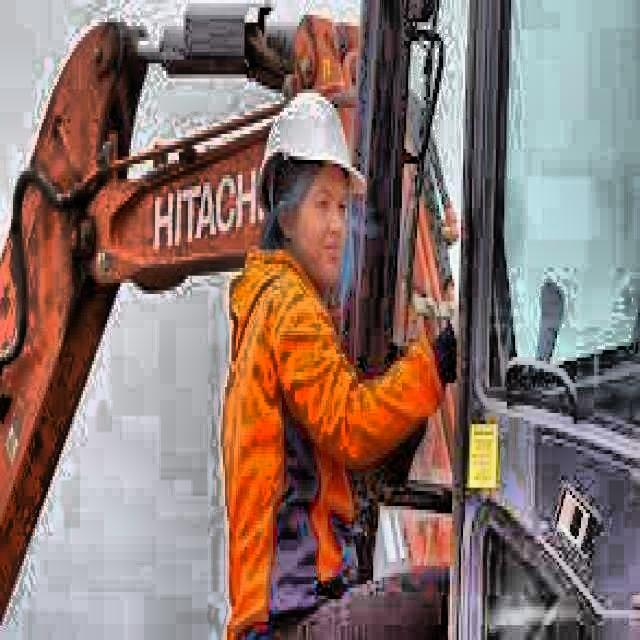bull_dozer/loader/grader: (0, 0, 640, 640)
person: (214, 80, 455, 639)
